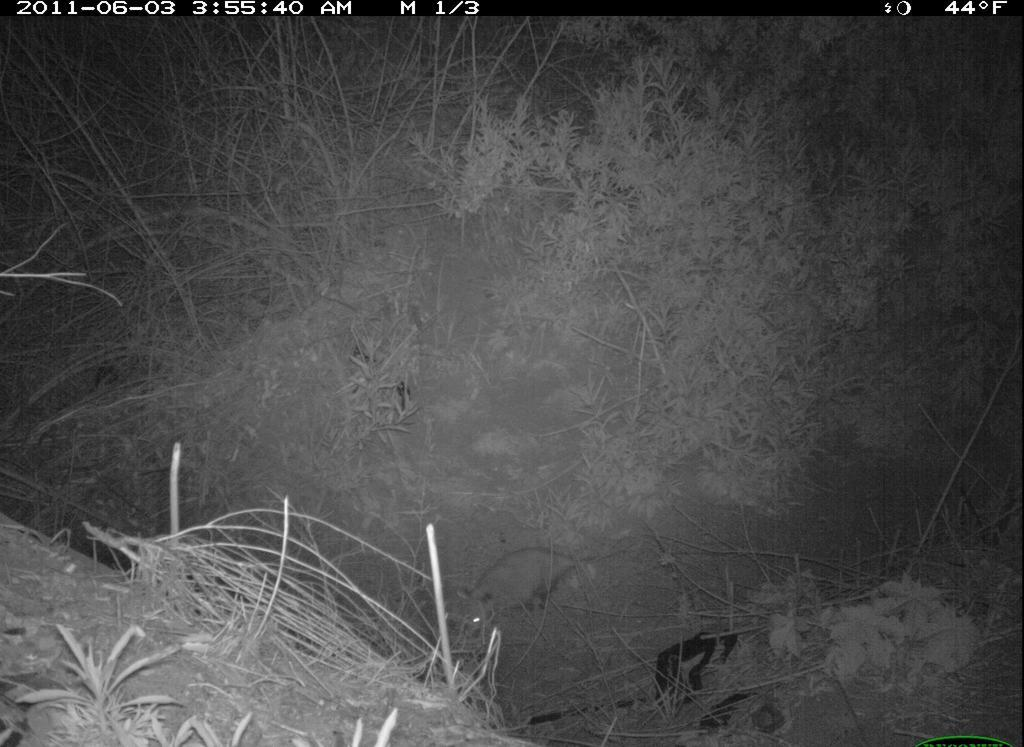opossum: (450, 530, 617, 648)
